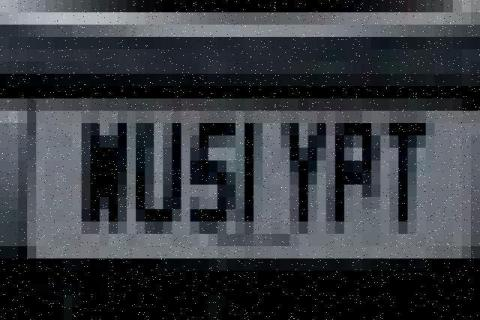LicensePlate: (26, 56, 480, 284)
